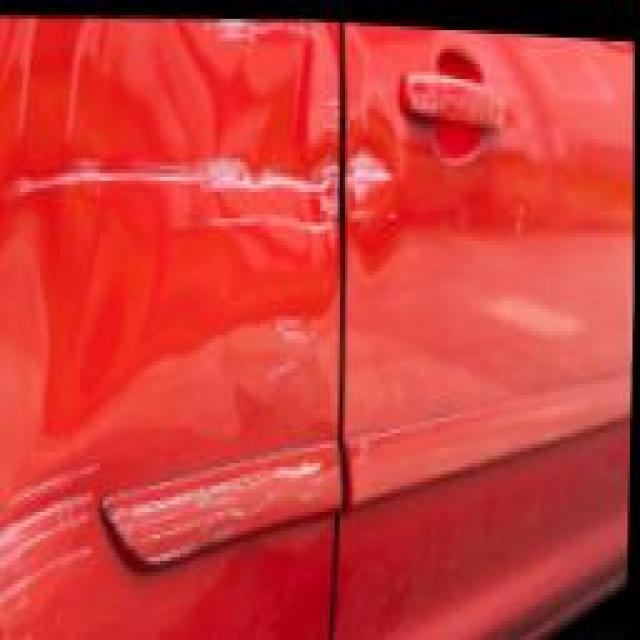Door: (0, 102, 481, 345)
